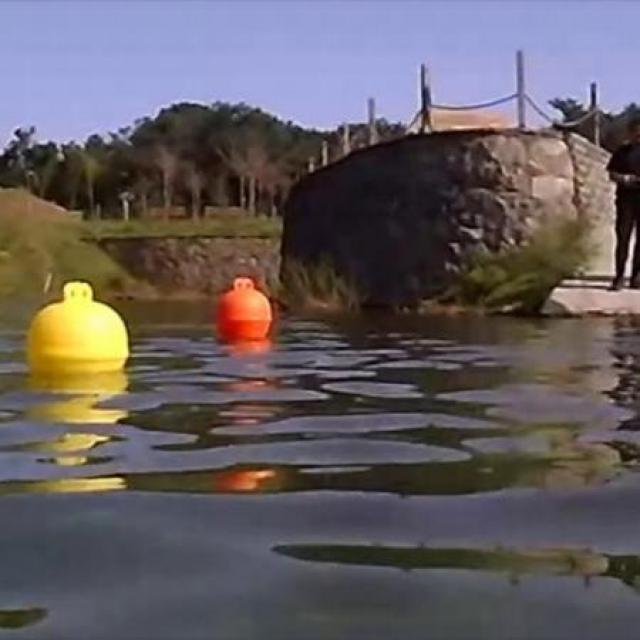buoy: (26, 279, 130, 374), (213, 278, 273, 342)
